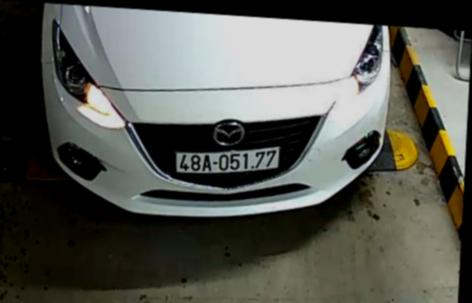License_Plate: (169, 141, 281, 185)
